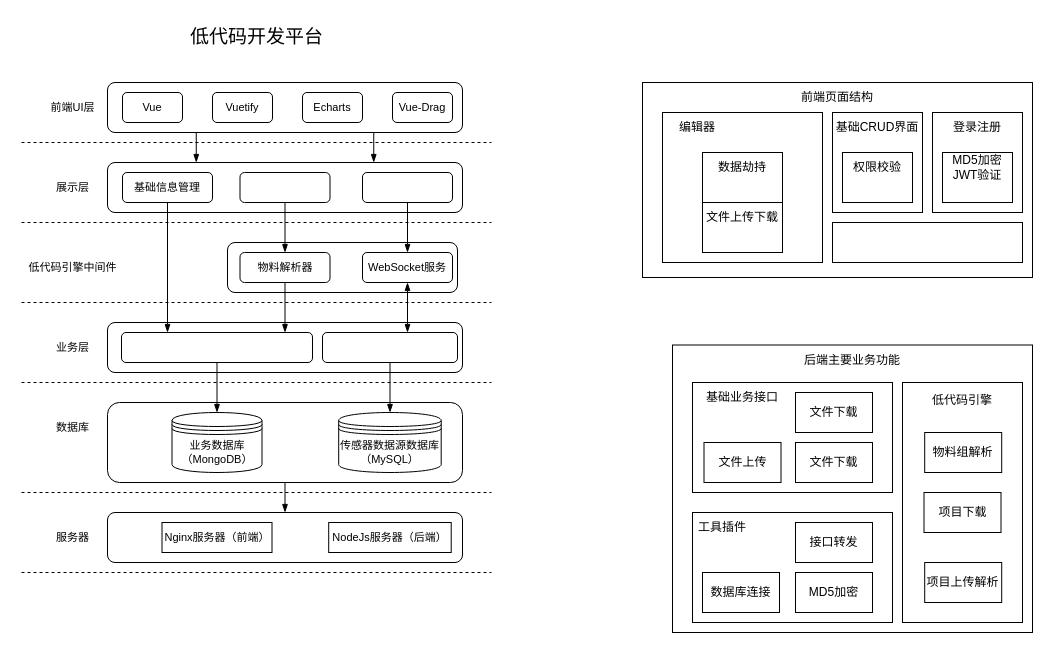
Some shapes in this 1050 by 650 pixel diagram are drawn without their labels. Each missing label, with the centre of its shape:
"业务数据服务（基础数据及物料数据）" goes at (x=216, y=347).
"代码编辑器" goes at (x=284, y=187).
"数据中转服务（提供API）" goes at (x=390, y=347).
"社区" goes at (x=927, y=242).
"项目预览/社区" goes at (x=407, y=187).
